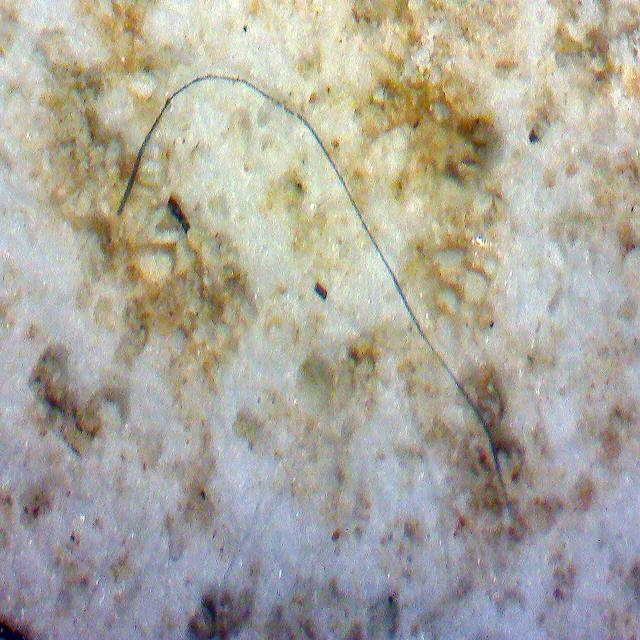microplastic: (95, 47, 604, 474)
